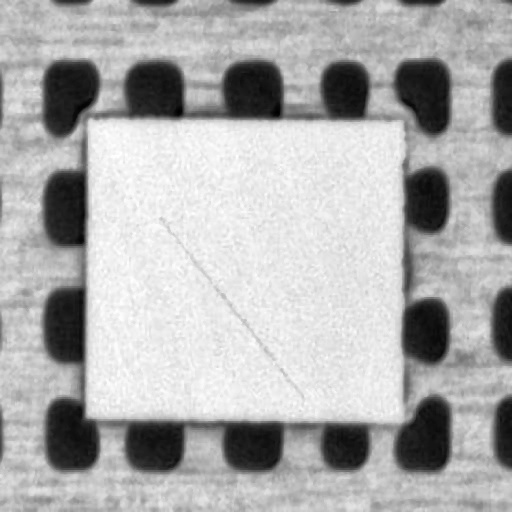DIE_CRACK: (211, 163, 401, 298)
